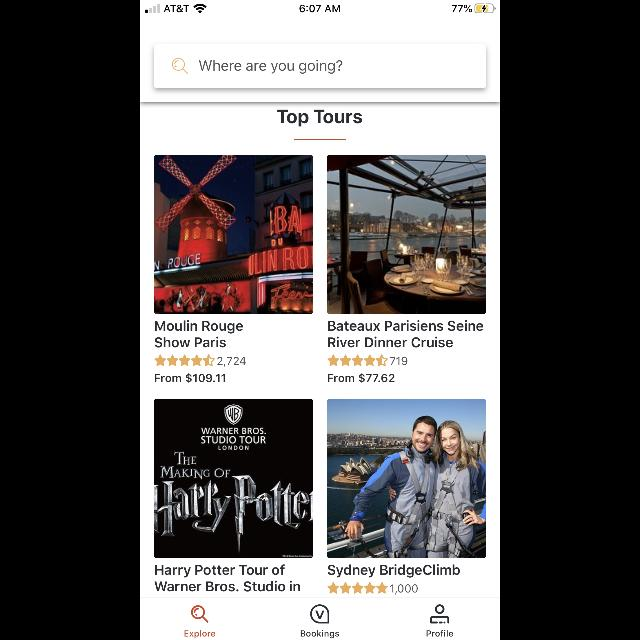icon: (328, 582, 388, 594), (328, 355, 388, 367), (155, 354, 215, 366), (430, 604, 450, 624), (192, 606, 208, 622), (172, 58, 188, 74)
image: (154, 398, 314, 558), (328, 399, 487, 558), (154, 156, 314, 314), (328, 156, 487, 314), (310, 604, 330, 624)
input: (154, 46, 486, 88)
text: (200, 60, 342, 74), (328, 564, 459, 578), (156, 564, 284, 578), (328, 321, 484, 332), (156, 581, 300, 591), (329, 337, 453, 348), (278, 110, 362, 126), (156, 321, 242, 334), (154, 337, 226, 348), (154, 373, 226, 383), (328, 373, 394, 382), (301, 630, 339, 638), (390, 584, 418, 594), (218, 357, 246, 367), (184, 630, 216, 638), (427, 630, 453, 636), (390, 357, 408, 365)
uppertaskbar: (140, 0, 500, 14)
